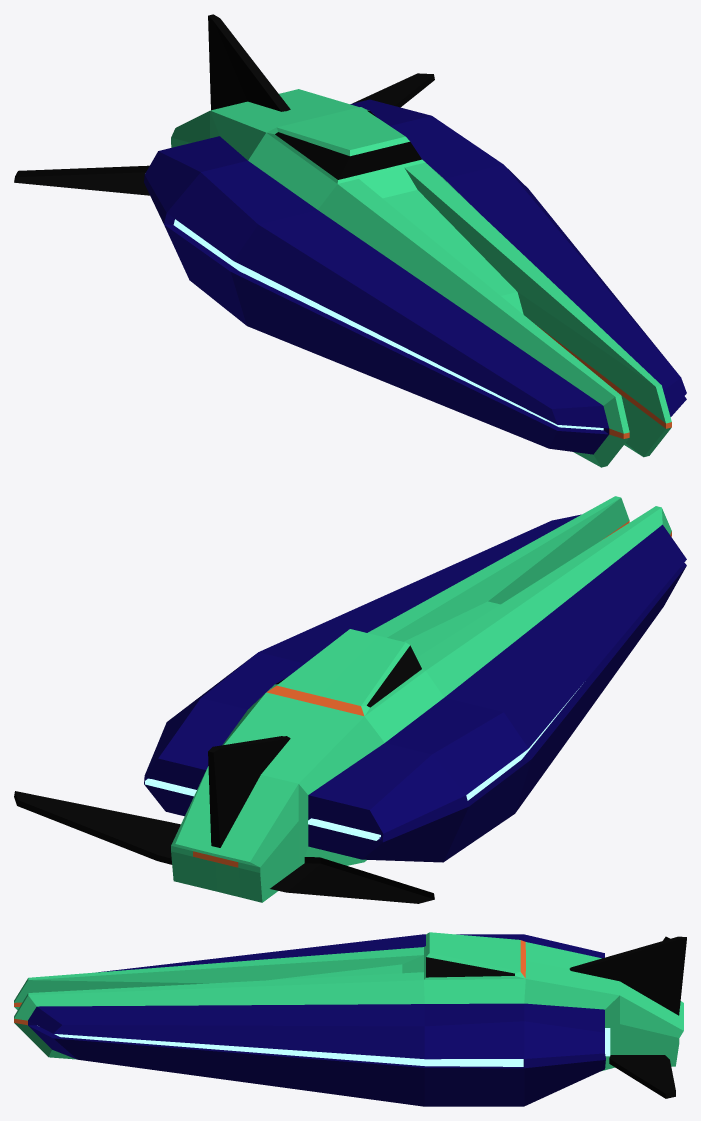
Rendered from raceship.gltf.
3 renders of one model, top to bottom at view 1: azimuth 30°, elevation 25°; view 2: azimuth 150°, elevation 25°; view 3: azimuth 270°, elevation 25°, orthographic. The views are drawn at different scales.
Visible parts, largest first — view 1: main, aileron, aile2, aile1; view 2: main, aile1, aileron, aile2; view 3: main, aileron, aile1.
Part boxes in pixels (box(x1,y1,x2,y2)): main: box(144, 89, 686, 467); aileron: box(208, 14, 290, 111); aile2: box(14, 165, 149, 195); aile1: box(352, 73, 434, 107); main: box(144, 496, 686, 902); aile1: box(14, 791, 180, 864); aileron: box(208, 736, 290, 847); aile2: box(270, 857, 434, 903); main: box(14, 932, 683, 1106); aileron: box(569, 936, 686, 1015); aile1: box(609, 1055, 675, 1098).
Bounding box in the file's own units: 0.5393 × 0.2141 × 0.9698.
